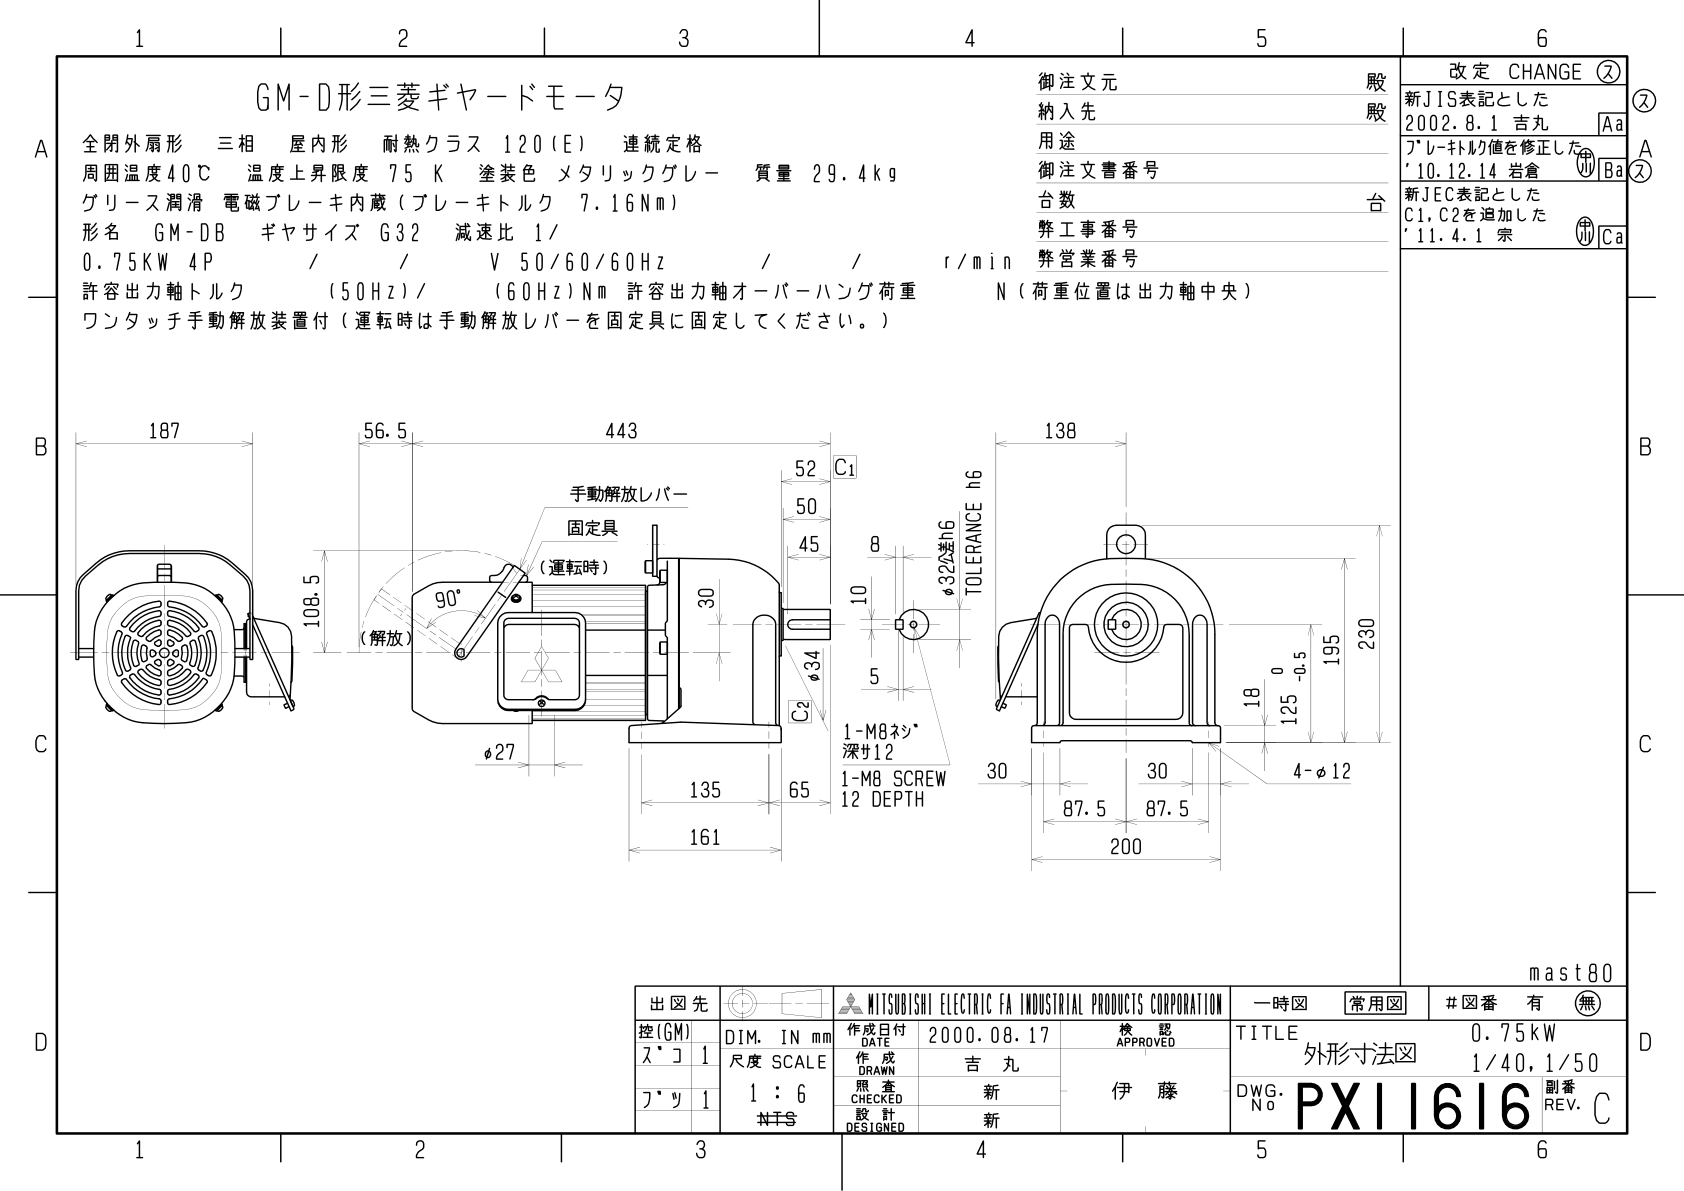GM_D_手動解放ブレーキ＿三相_脚: (67, 378, 1392, 914)
